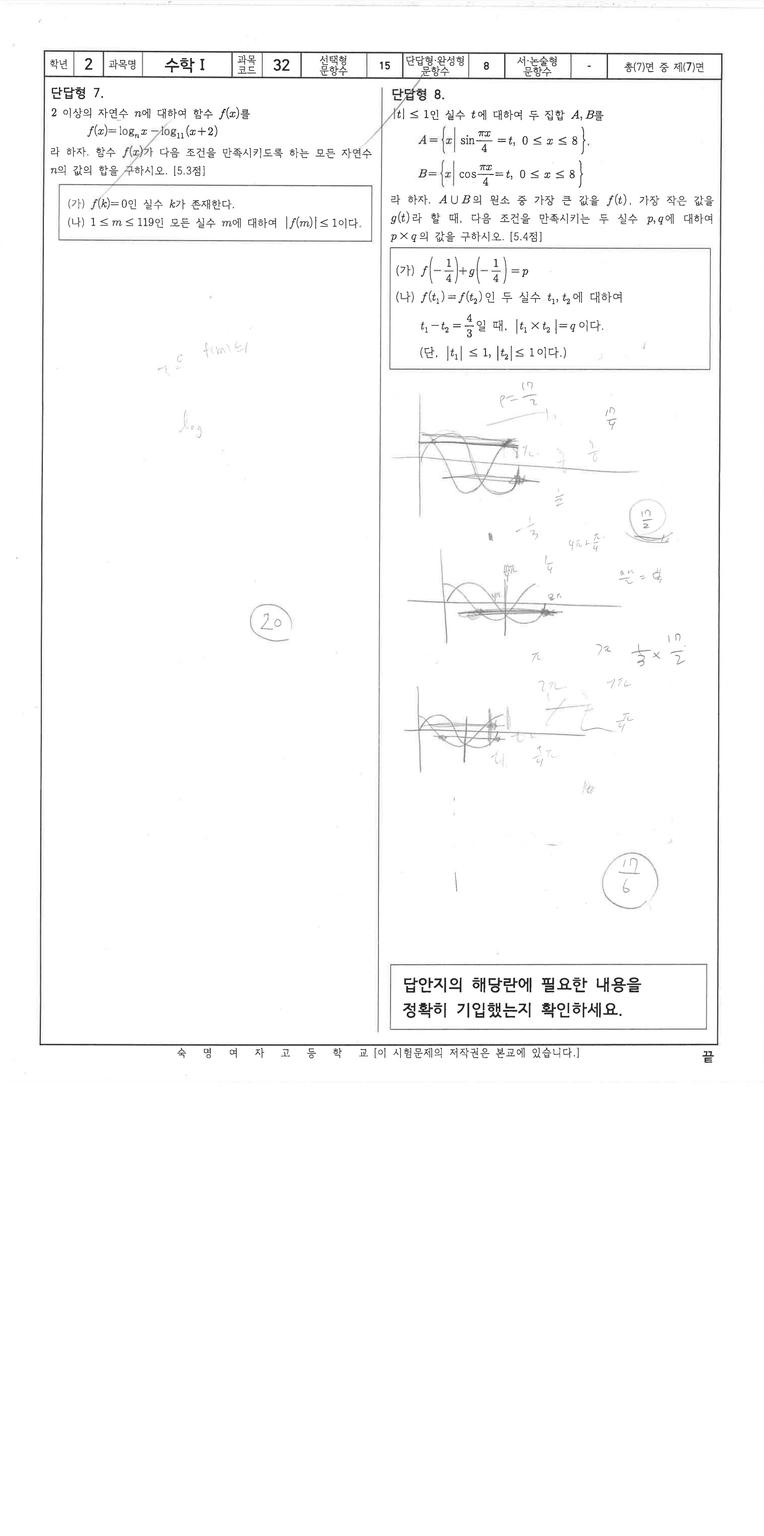problem: (384, 107, 714, 381), (49, 101, 379, 254)
